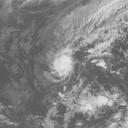cyclone: (44, 48, 78, 82)
